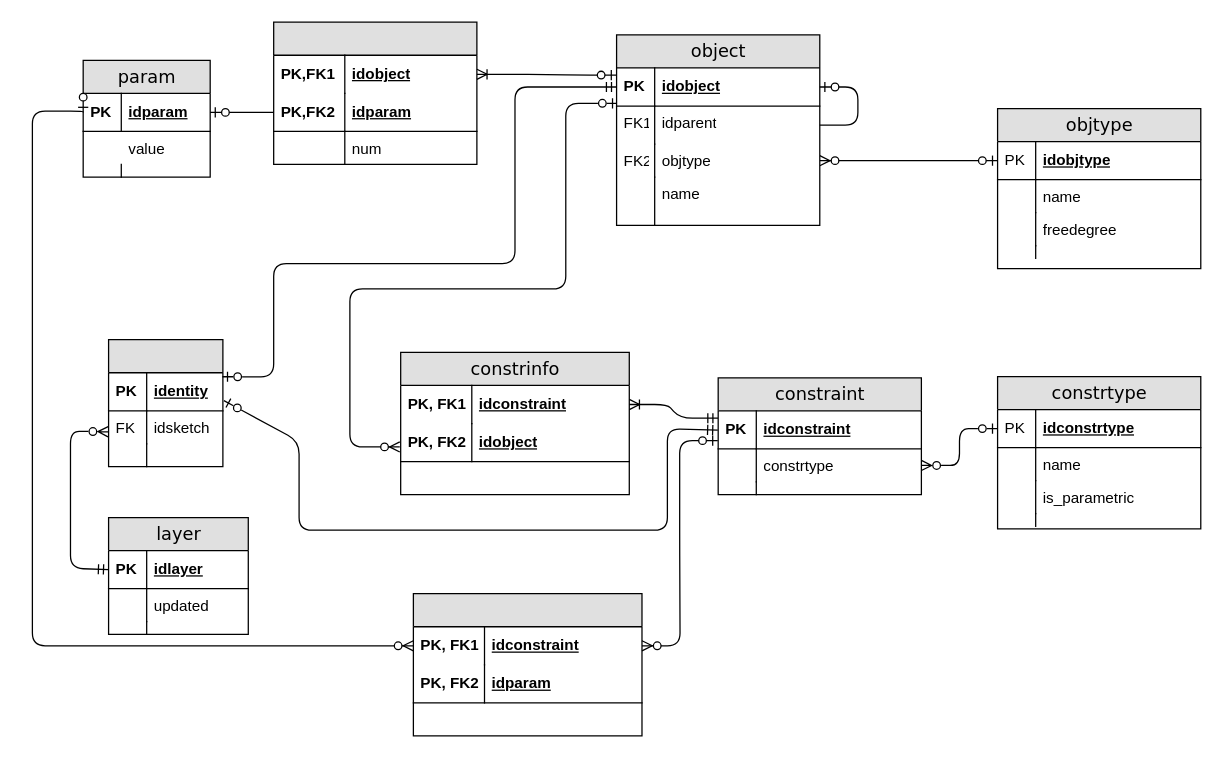
Image size: 1223x758. Some labels were removed from this diagram. Each missing label, with the box of its shape:
constrparam: (412, 592, 642, 736)
objparam: (272, 21, 477, 164)
sketch_entity: (107, 338, 223, 467)
